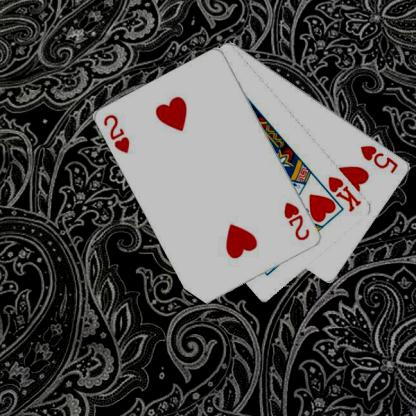2H: (100, 112, 132, 154), (282, 200, 312, 242)
5H: (358, 142, 400, 175)
KH: (326, 173, 364, 213)
